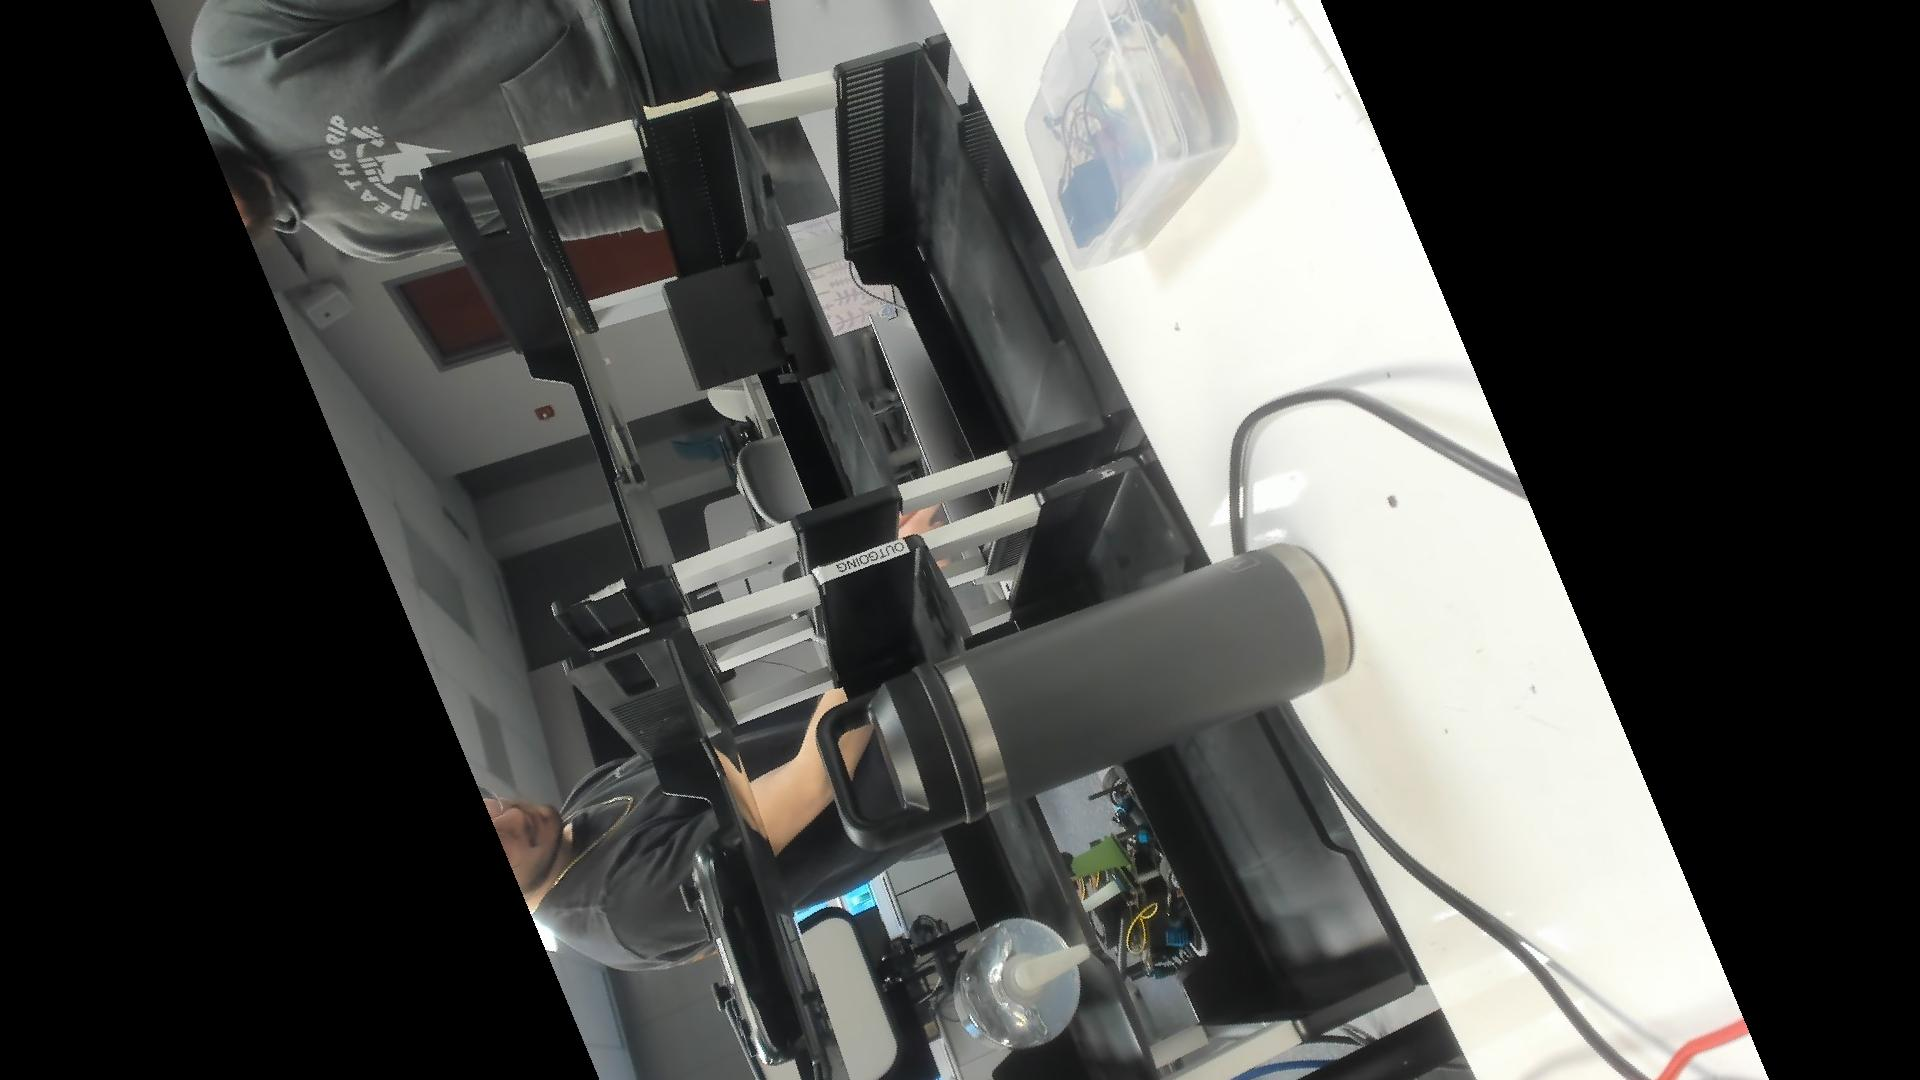black pallet: (657, 219, 841, 401)
